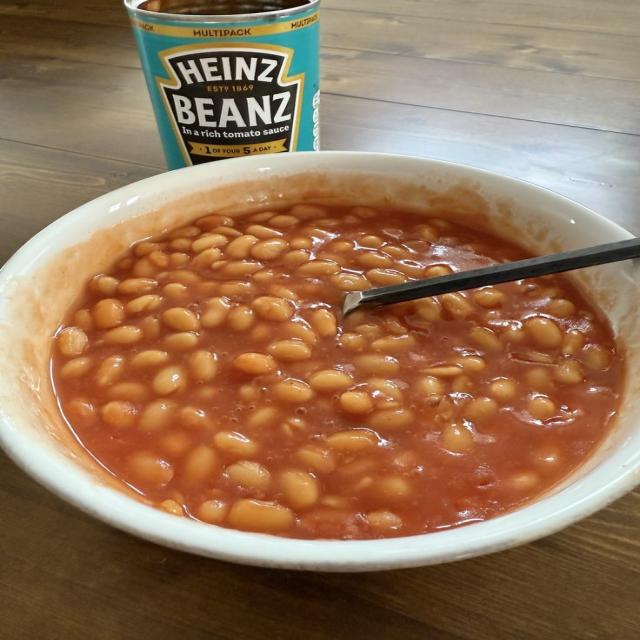beans: (228, 499, 294, 532), (128, 452, 173, 486), (279, 470, 319, 508), (181, 445, 219, 482), (226, 460, 271, 489), (139, 400, 177, 432), (327, 429, 378, 452), (525, 317, 562, 348), (214, 432, 259, 457), (295, 445, 336, 472), (368, 407, 413, 431), (354, 353, 400, 376), (273, 378, 313, 404), (152, 365, 186, 395), (100, 401, 137, 428), (253, 297, 294, 321), (309, 370, 353, 392), (267, 339, 311, 361), (200, 297, 231, 328), (56, 327, 88, 357), (161, 307, 199, 332), (375, 476, 412, 501), (281, 320, 318, 345), (440, 425, 473, 453), (234, 353, 276, 375), (93, 299, 124, 328), (189, 350, 217, 381), (440, 293, 473, 319), (95, 356, 123, 386), (195, 499, 228, 524), (463, 397, 498, 420), (367, 378, 402, 401), (107, 382, 149, 401), (159, 432, 192, 456), (365, 510, 402, 531), (104, 325, 142, 345), (340, 391, 373, 414), (60, 356, 93, 379), (179, 406, 212, 429), (251, 239, 287, 260), (554, 359, 584, 384), (527, 396, 557, 421), (372, 335, 416, 352), (125, 295, 162, 315), (469, 327, 501, 350), (311, 309, 337, 337), (582, 345, 611, 370), (246, 406, 278, 428), (67, 398, 96, 422), (191, 234, 227, 253), (299, 260, 339, 277), (330, 273, 370, 290), (118, 278, 158, 295), (190, 248, 222, 269), (367, 269, 406, 286), (220, 260, 261, 276), (525, 367, 553, 390), (489, 378, 517, 401), (474, 288, 506, 308), (162, 333, 199, 350), (561, 330, 585, 356), (131, 350, 167, 367), (357, 252, 393, 269), (195, 214, 233, 230), (416, 298, 441, 322), (507, 472, 540, 490), (280, 417, 308, 438), (90, 276, 119, 296), (416, 376, 445, 396), (546, 299, 576, 318), (454, 355, 486, 372), (290, 204, 326, 219), (139, 316, 160, 341), (500, 323, 526, 343), (423, 364, 462, 377), (132, 257, 157, 277), (72, 309, 93, 332), (269, 285, 299, 301), (167, 226, 201, 240), (395, 260, 423, 277), (414, 224, 439, 243), (246, 225, 282, 238), (283, 249, 312, 265), (340, 333, 366, 350), (161, 283, 187, 300), (269, 214, 299, 228), (253, 267, 278, 283), (238, 383, 259, 402), (249, 323, 271, 341), (385, 246, 412, 260), (451, 374, 472, 392), (160, 500, 183, 516), (148, 251, 169, 268), (357, 235, 384, 248), (425, 265, 452, 277), (169, 252, 190, 267), (290, 237, 313, 249), (248, 212, 272, 222)
